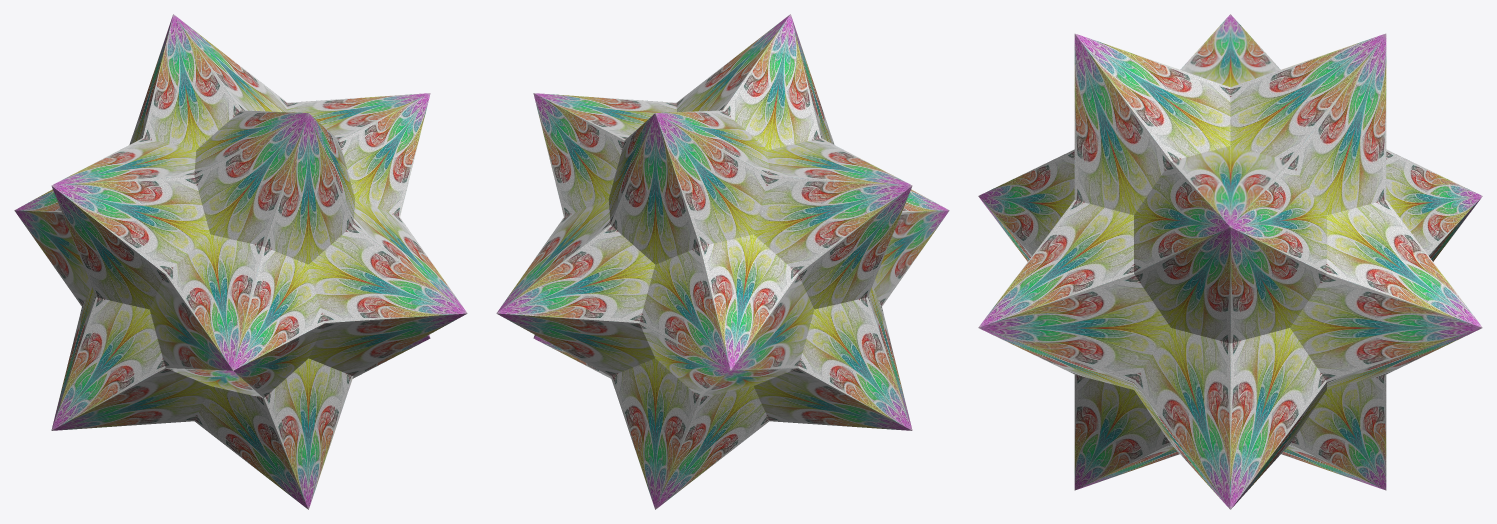
File: MedialRhombicTriacontahedron6.obj
3 views of the same model, side by side, from view 1: azimuth 30°, elevation 25°; view 2: azimuth 150°, elevation 25°; view 3: azimuth 270°, elevation 25° (orthographic). The views are drawn at different scales.
Size of the model in its own units: 2.43 by 2.43 by 2.43.
Materials: 1 (1 with a texture image).
